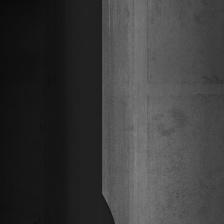crescent_gap: (98, 189, 122, 224)
